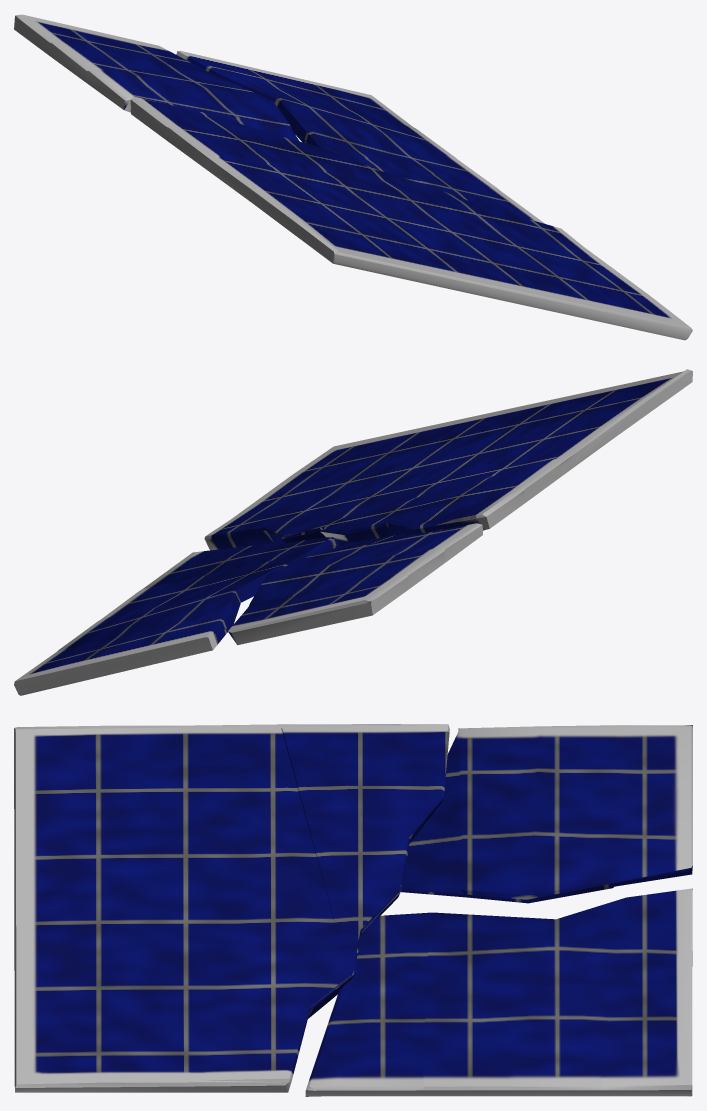
File: solar panel2.fbx
3 renders of one model, top to bottom at view 1: azimuth 30°, elevation 25°; view 2: azimuth 150°, elevation 25°; view 3: azimuth 270°, elevation 25°, orthographic. The views are drawn at different scales.
Parts seen in each view (by area): view 1: tripo_node_94b62a6c; view 2: tripo_node_94b62a6c; view 3: tripo_node_94b62a6c.
Part boxes in pixels (box(x1,y1,x2,y2)): tripo_node_94b62a6c: box(14, 14, 692, 340); tripo_node_94b62a6c: box(14, 369, 692, 695); tripo_node_94b62a6c: box(14, 724, 692, 1096).
Bounding box in the file's own units: 64.68 × 31.36 × 99.85.
Materials: 1 (1 with a texture image).
